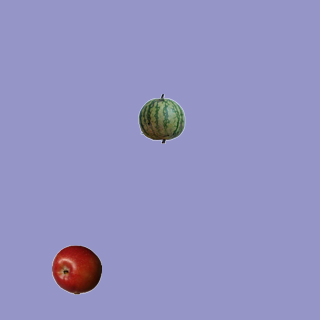Apple Braeburn: (51, 244, 101, 294)
Watermelon: (136, 93, 186, 143)
